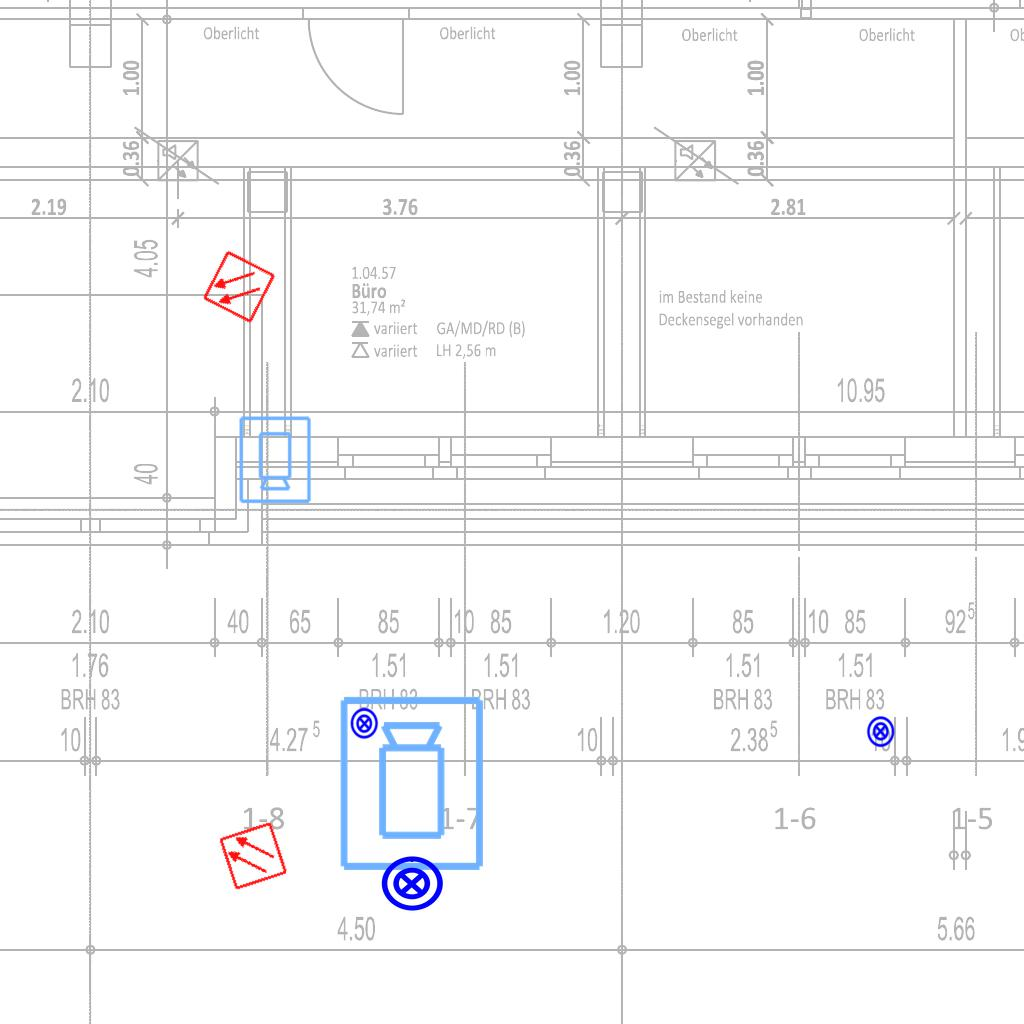KFO_Kamera_mit_Festobjektiv: (336, 693, 490, 875), (236, 414, 313, 505)
RMO_Rauchmelder_optischer: (201, 249, 277, 325), (217, 820, 289, 892)
Taster_beleuchtet: (379, 851, 445, 917), (864, 715, 897, 748), (348, 707, 381, 740)
